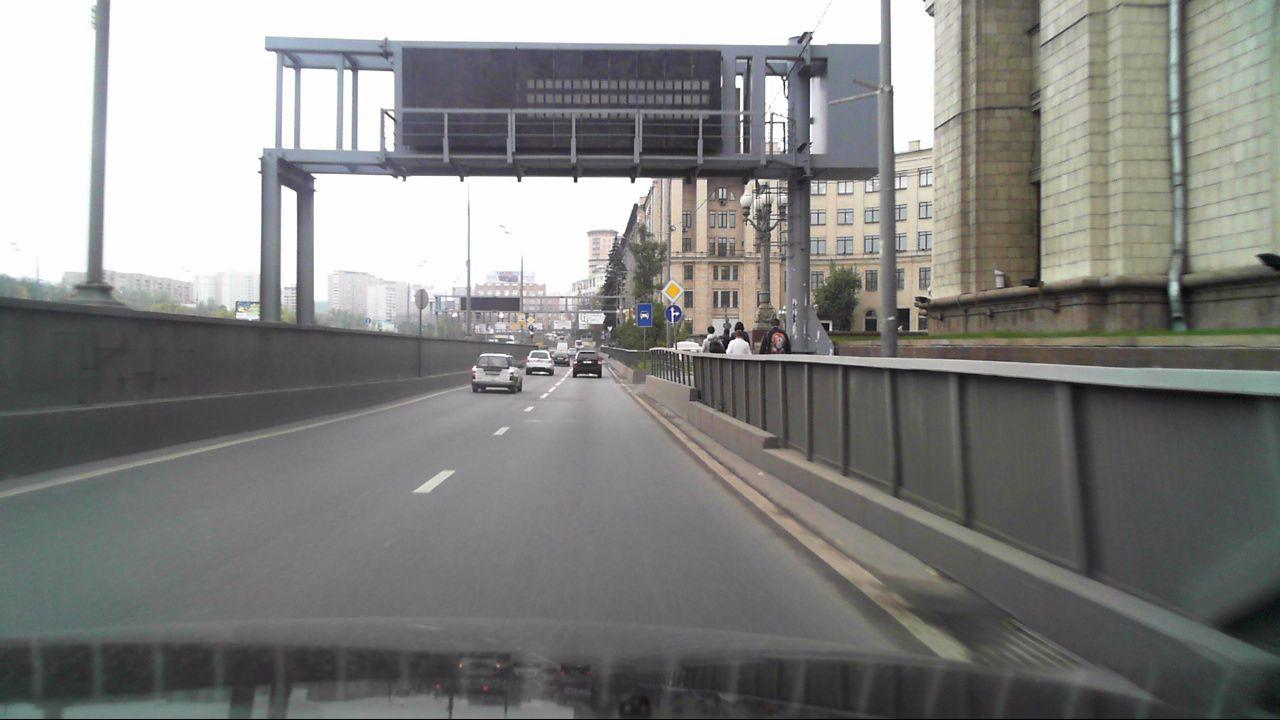2_1: (661, 279, 685, 302)
4_1_4: (664, 303, 684, 324)
5_3: (636, 301, 654, 328)
